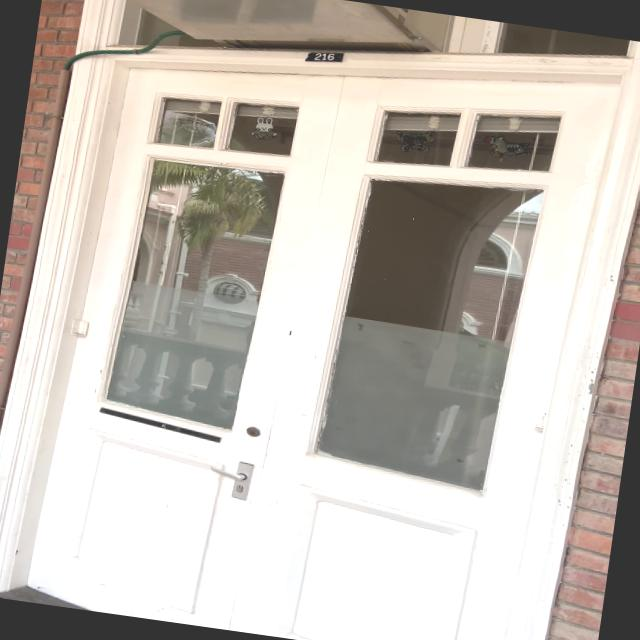room216: (304, 46, 346, 66)
